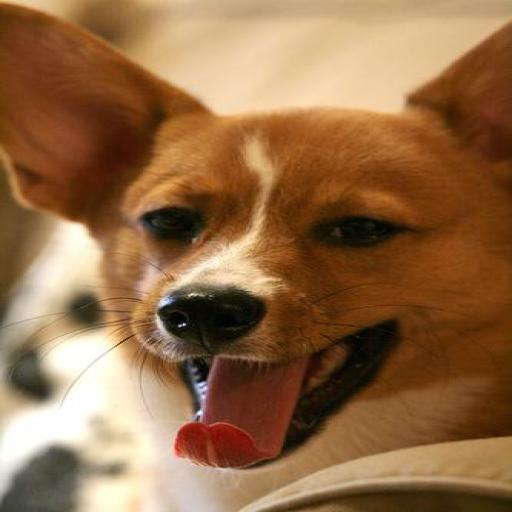dog_face: (7, 14, 508, 436)
